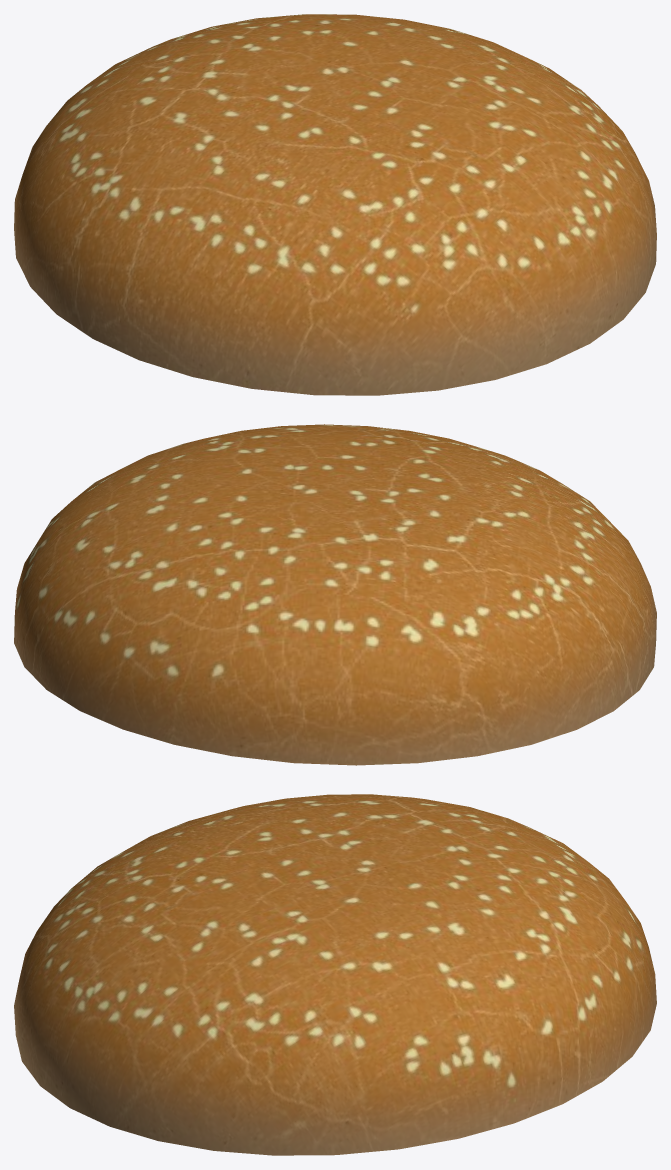
3 views of the same model, one above another, from view 1: azimuth 30°, elevation 25°; view 2: azimuth 150°, elevation 25°; view 3: azimuth 270°, elevation 25° (orthographic).
Visible parts, largest first — view 1: bun; view 2: bun; view 3: bun.
Part boxes in pixels (box(x1,y1,x2,y2)): bun: box(14, 14, 656, 395); bun: box(14, 424, 656, 765); bun: box(14, 794, 656, 1155).
Size of the model in its own units: 382 by 116 by 382.
